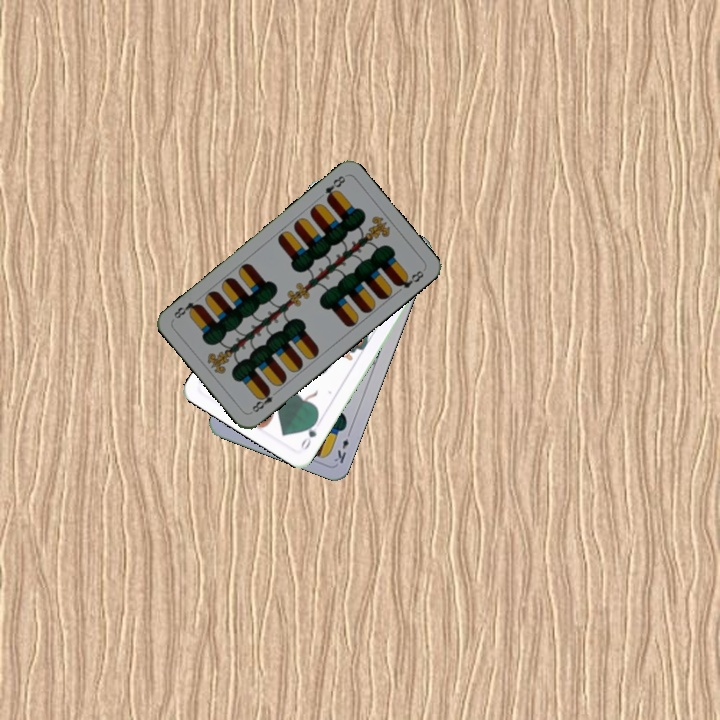E8: (247, 385, 281, 416), (321, 171, 348, 204)
EK: (330, 426, 354, 466)
GO: (297, 415, 320, 453)
